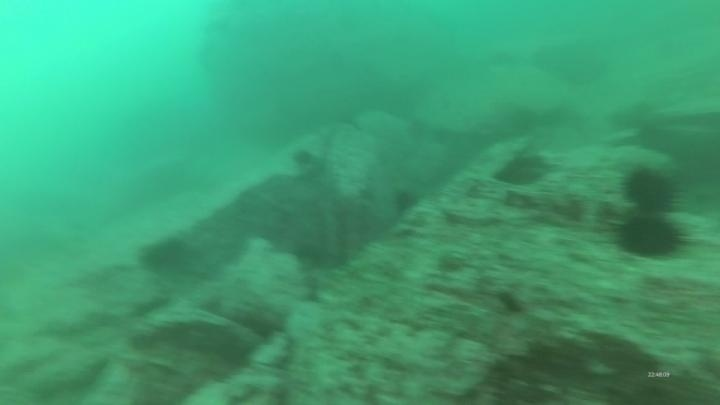echinus: (611, 210, 688, 262), (620, 163, 681, 215), (389, 186, 422, 217), (289, 146, 318, 172)
